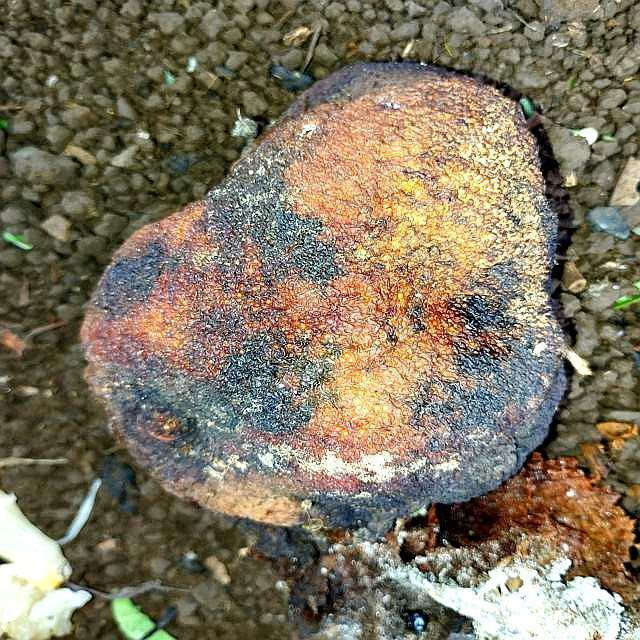Biodegradable: (73, 65, 571, 533)
